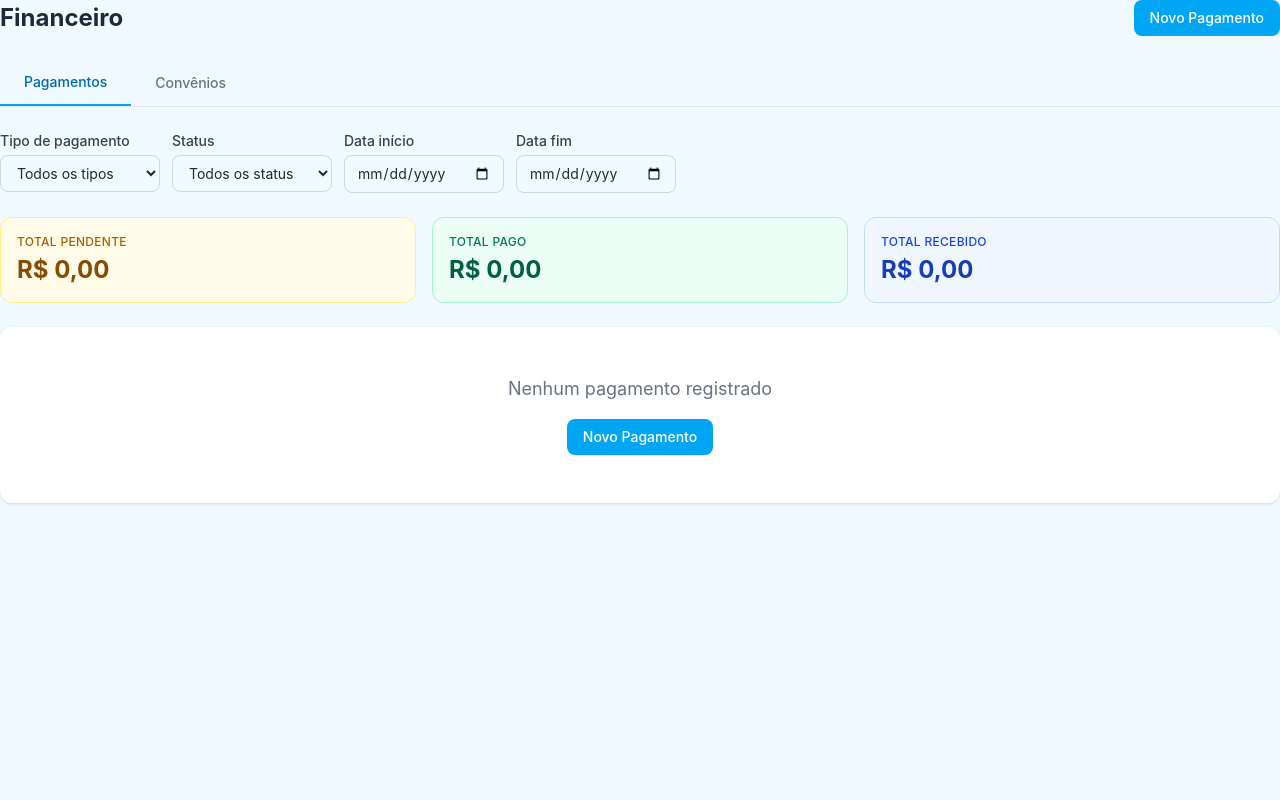
Scenario: PaymentForm — conditional rendering › shows Particular fields by default and hides Convenio fields
The width and height of the screenshot is (1280, 800).
Click the button "Novo Pagamento" in the row of "Financeiro" at (1207, 18), box [1134,0,1279,36]
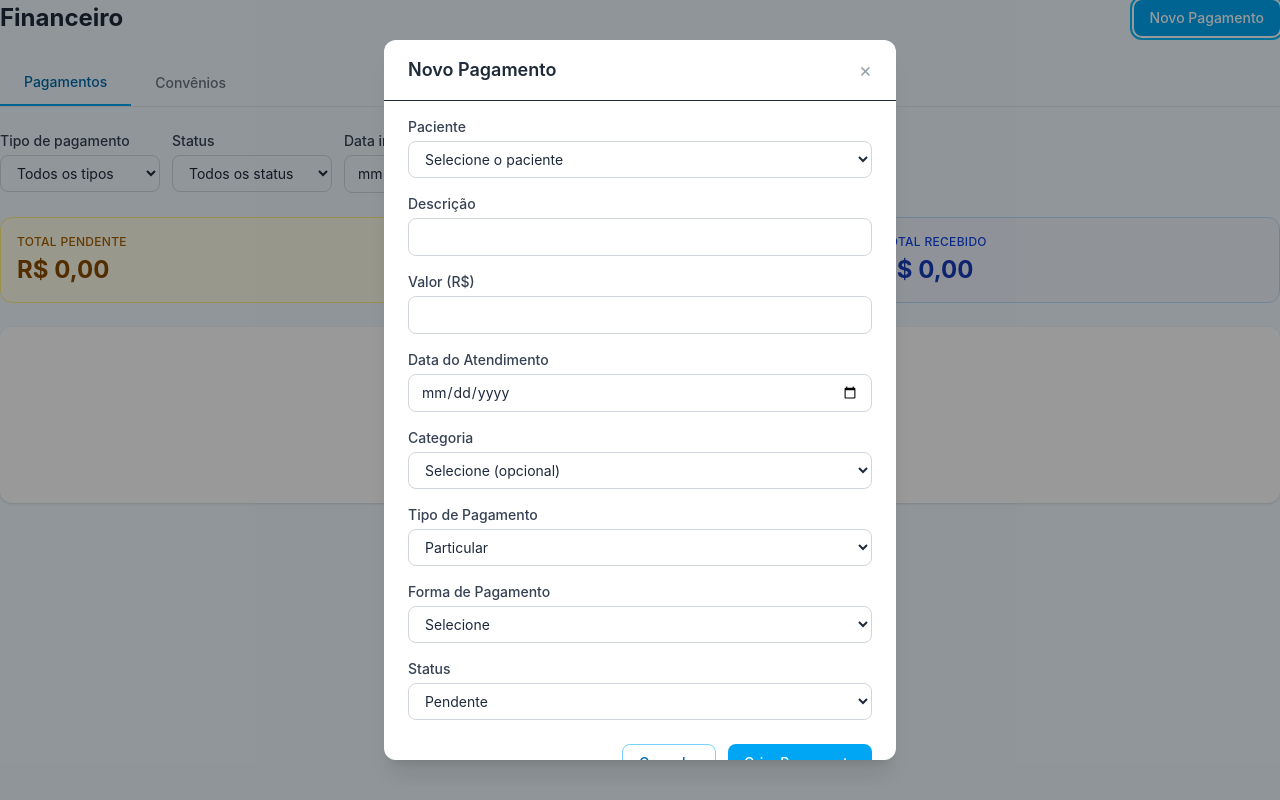
Now the dropdown labelled "Forma de Pagamento" is shown, box [408,606,872,643]
Now the dropdown labelled "Status" is shown, box [408,683,872,720]
